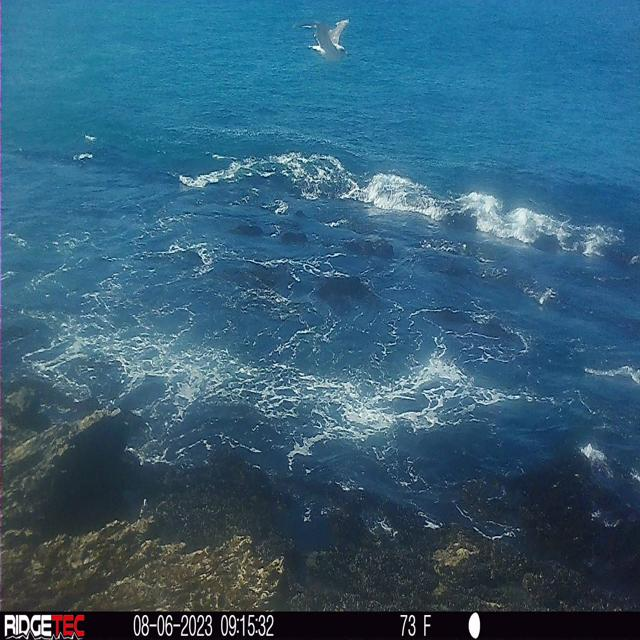bird: (296, 17, 350, 63)
